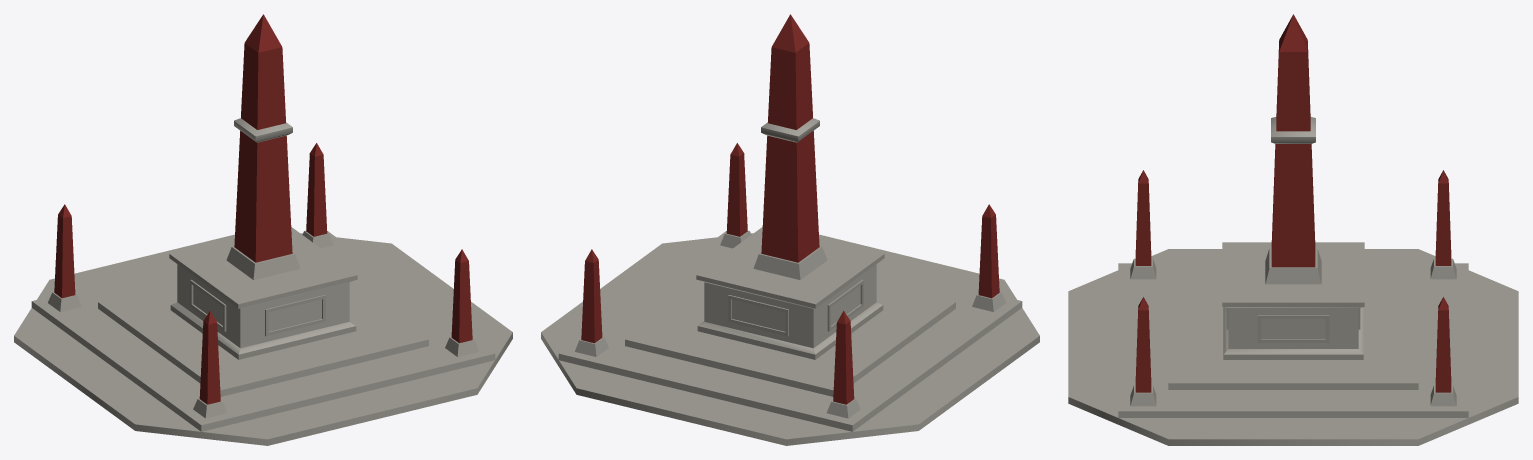
The model's file is Monument6.fbx.
3 views of the same model, side by side, from view 1: azimuth 30°, elevation 25°; view 2: azimuth 150°, elevation 25°; view 3: azimuth 270°, elevation 25° (orthographic). The views are drawn at different scales.
Parts seen in each view (by area): view 1: Monument6; view 2: Monument6; view 3: Monument6.
Part boxes in pixels (x1,y1,x2,y2): Monument6: (14, 14, 512, 445); Monument6: (541, 14, 1039, 445); Monument6: (1068, 14, 1518, 445).
Size of the model in its own units: 9 by 7.43 by 9.
